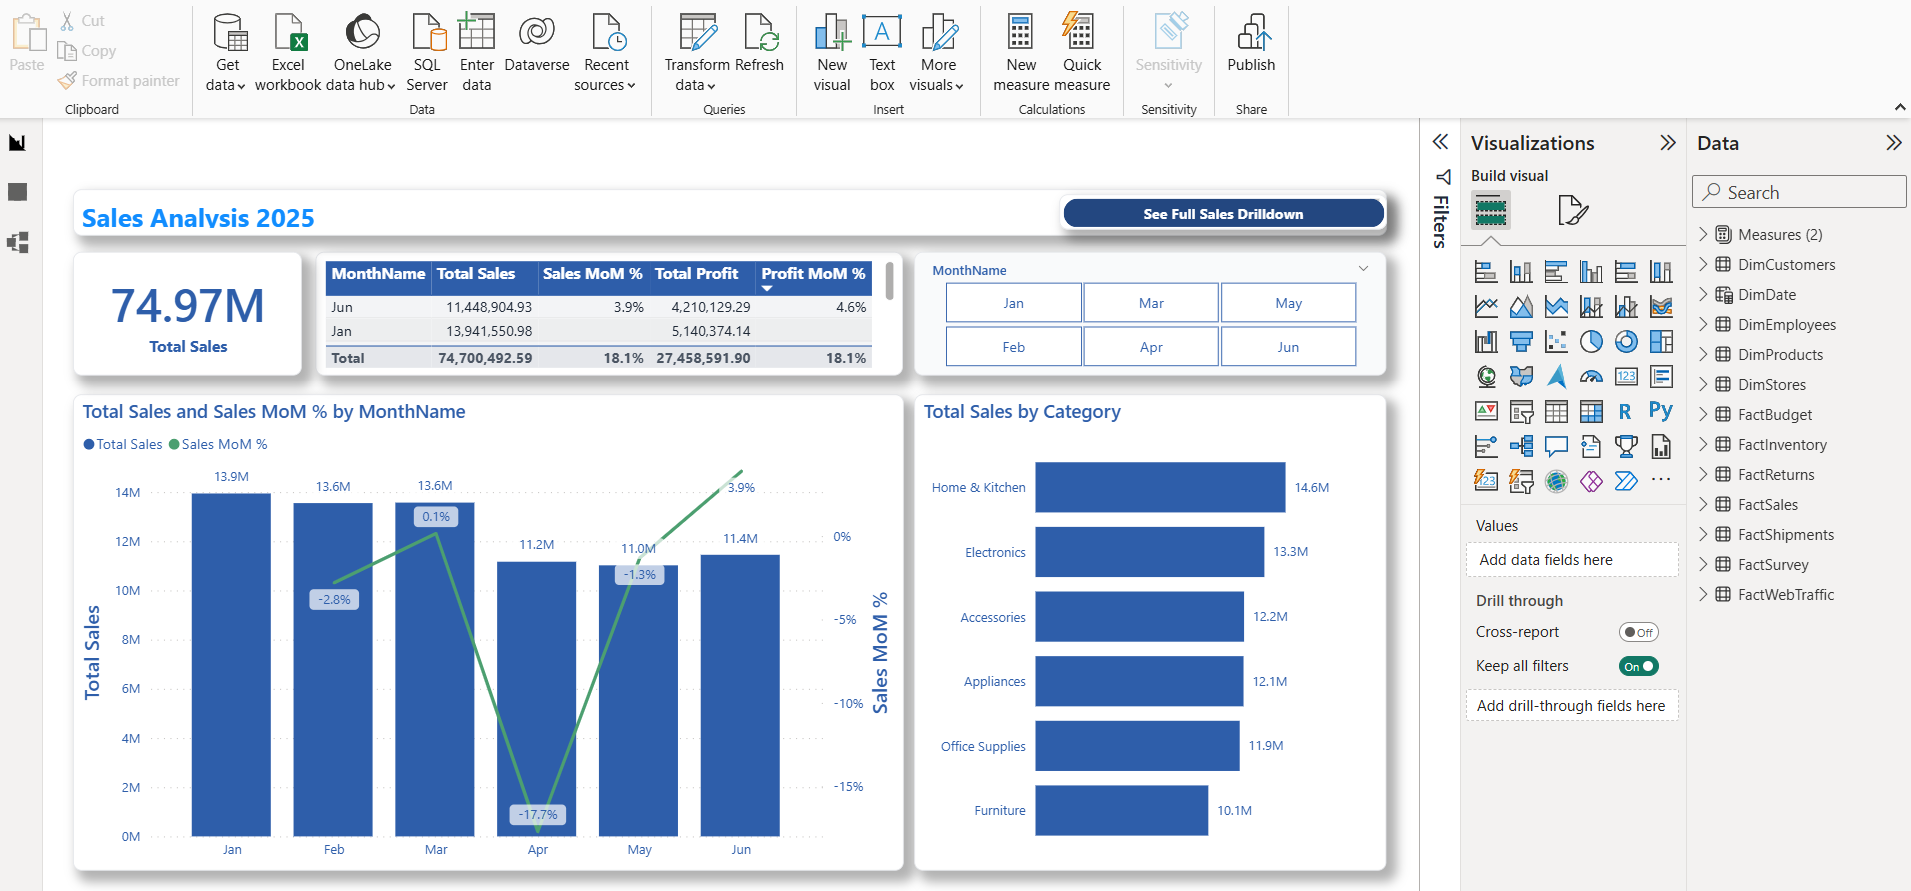

The dashboard page shown, as its layout file describes it:
{"tool":"powerbi","page":{"name":"Sales Analysis","canvas":[1280,720],"ordinal":1},"visuals":[{"type":"lineClusteredColumnComboChart","fields":{"Category":["DimDate.MonthName"],"Y":["Measures (2).Total Sales"],"Y2":["Measures (2).Sales MoM %"]},"box":[27.4,256.6,772.6,443.2],"z":0},{"type":"tableEx","fields":{"Values":["DimDate.MonthName","Measures (2).Total Sales","Measures (2).Sales MoM %","Measures (2).Total Profit","Measures (2).Profit MoM %"]},"box":[253.9,124.9,546.1,115.3],"z":1000},{"type":"barChart","fields":{"Category":["DimProducts.Category"],"Y":["Measures (2).Total Sales"]},"box":[811,256.6,439.1,443.2],"z":2000},{"type":"textbox","box":[27.9,66.3,1222.1,43],"z":3000},{"type":"actionButton","box":[945.5,71.4,304.6,32.9],"z":4000},{"type":"card","fields":{"Values":["Measures (2).Total Sales"]},"box":[27.9,124.4,212.8,115.1],"z":5000},{"type":"slicer","fields":{"Values":["DimDate.MonthName"]},"box":[811,124.9,439.1,115.3],"z":6000}]}

Visuals, with their boxes on the page's 1280x720 design canvas (x1, y1, x2, y2). These are canvas units, not pixel positions in the 1911x891 screenshot, which may show the page scaled, cropped or inside an application window:
lineClusteredColumnComboChart - DimDate.MonthName x Measures (2).Total Sales: bbox(27, 257, 800, 700)
tableEx - DimDate.MonthName x Measures (2).Total Sales: bbox(254, 125, 800, 240)
barChart - DimProducts.Category x Measures (2).Total Sales: bbox(811, 257, 1250, 700)
textbox: bbox(28, 66, 1250, 109)
actionButton: bbox(946, 71, 1250, 104)
card - Measures (2).Total Sales: bbox(28, 124, 241, 240)
slicer - DimDate.MonthName: bbox(811, 125, 1250, 240)
